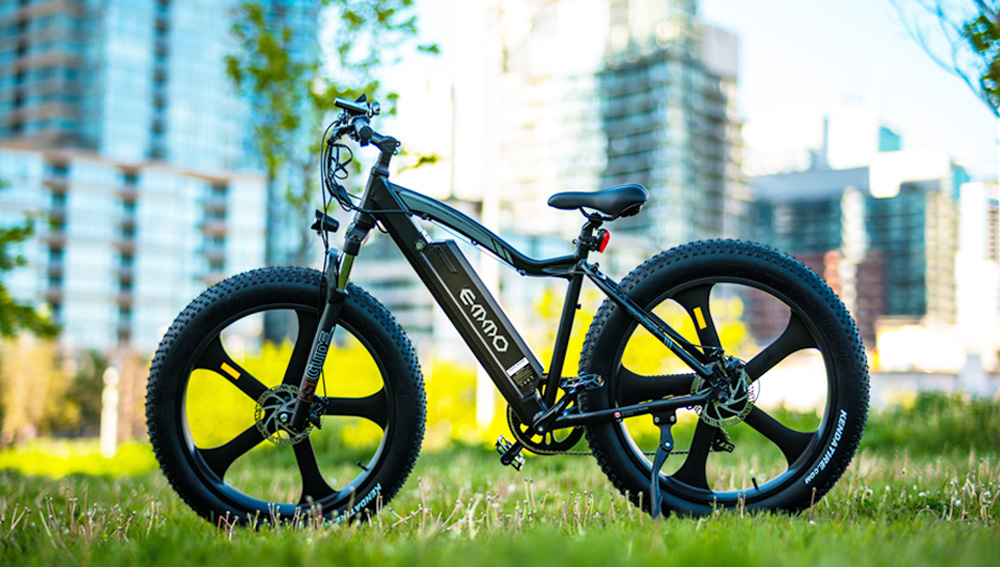bicycle: (144, 90, 877, 535)
